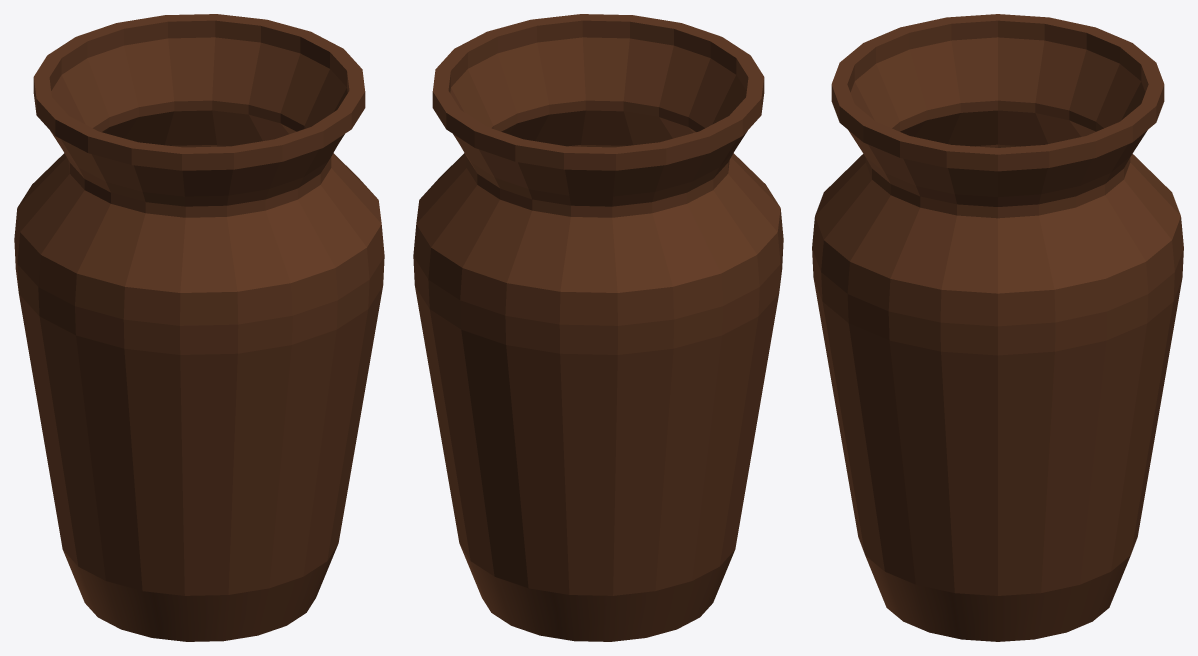
The model's file is TT_Clay_jar_Fixed.fbx.
The picture shows the model from 3 angles, left to right: view 1: azimuth 30°, elevation 25°; view 2: azimuth 150°, elevation 25°; view 3: azimuth 270°, elevation 25°; orthographic projection.
Visible parts, largest first — view 1: Old_clay_jar_Fixed; view 2: Old_clay_jar_Fixed; view 3: Old_clay_jar_Fixed.
Boxes of the visible parts, left/top/right/bottom form: Old_clay_jar_Fixed: left=14, top=14, right=384, bottom=641; Old_clay_jar_Fixed: left=413, top=14, right=783, bottom=641; Old_clay_jar_Fixed: left=812, top=14, right=1183, bottom=641.
Bounding box in the file's own units: 63.41 × 95.59 × 63.41.
